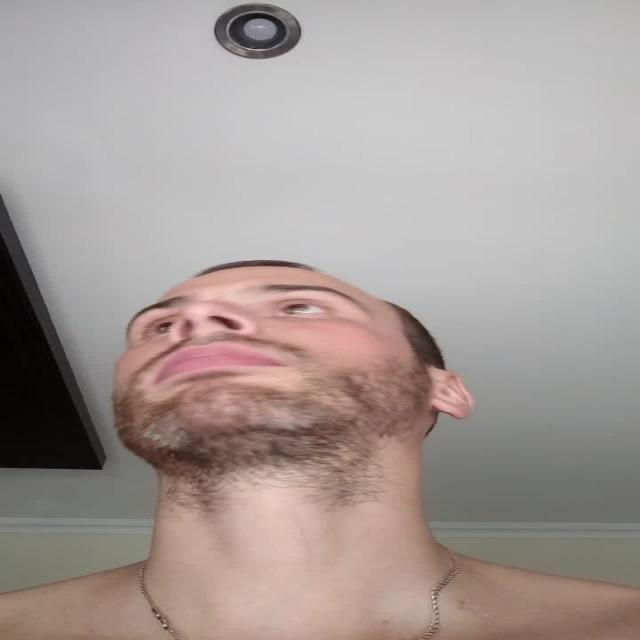earlobe: (432, 368, 474, 419)
